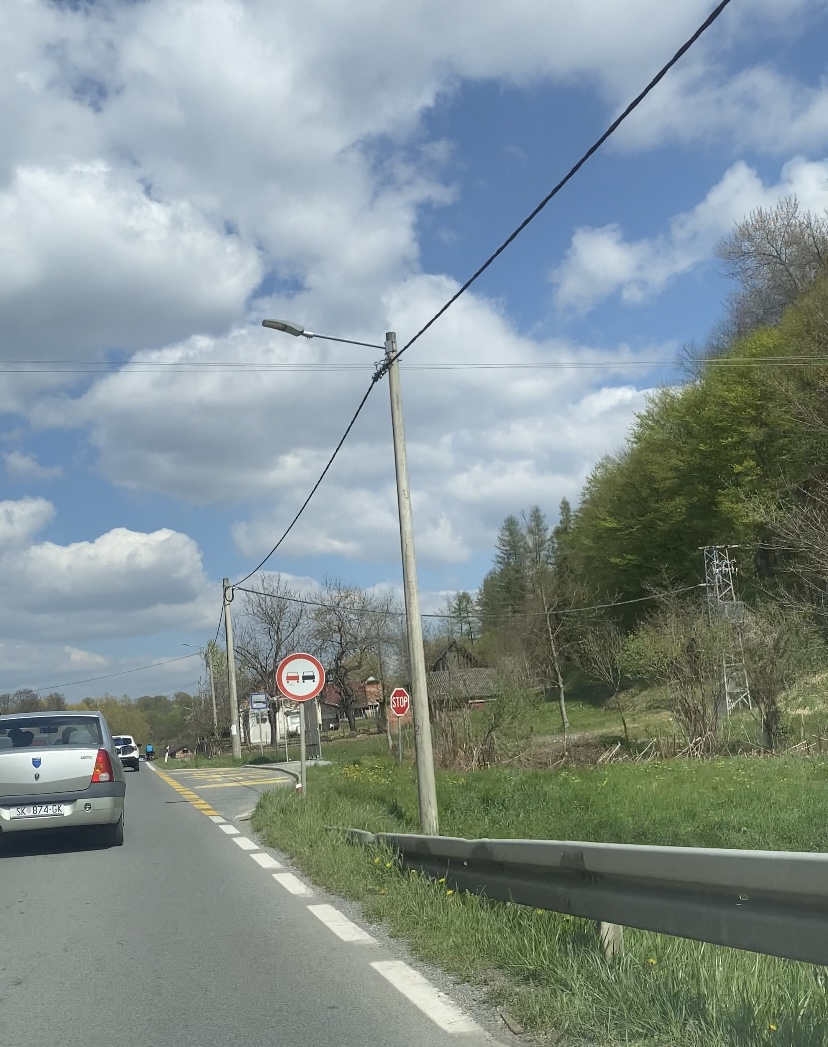Obavezno zaustavljanje: (390, 688, 410, 717)
Zabrana pretjecanja: (276, 653, 325, 701)
